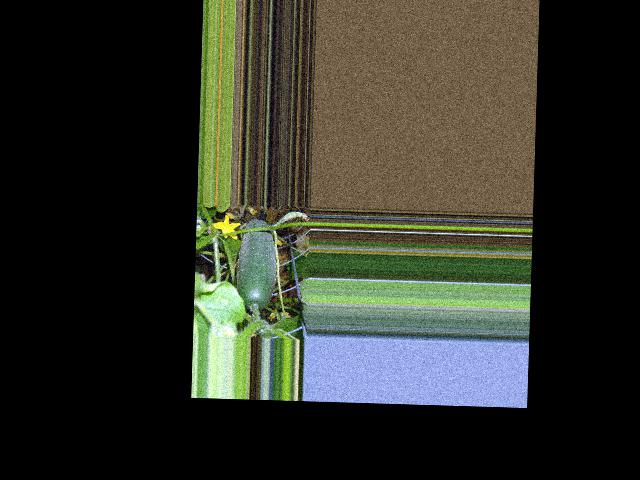cucumber: (236, 219, 278, 311)
